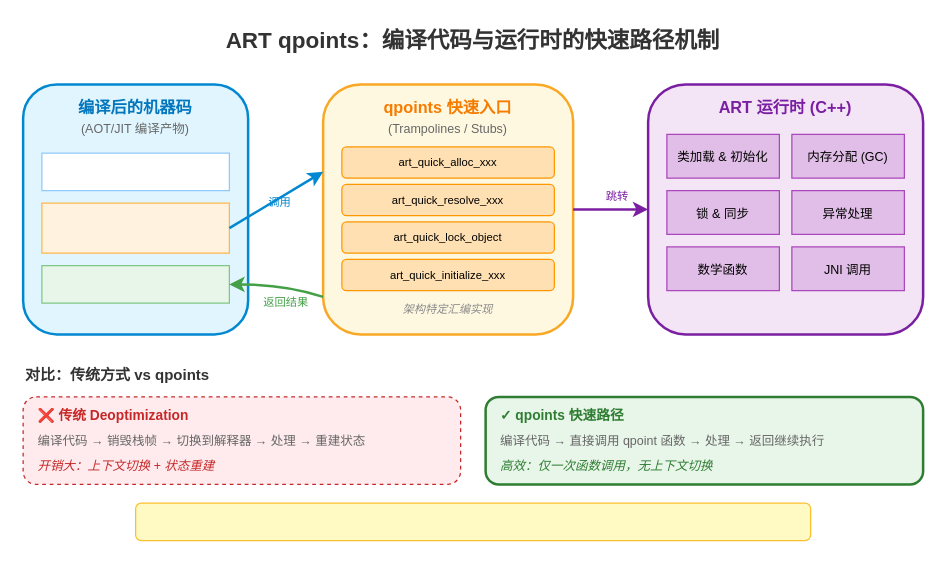
Some shapes in this 945 by 563 pixel diagram are drawn without their labels. The box of each missing label's shape, as (x1, y1, x2, y2) in pixels:
核心价值：qpoints 让编译后的代码能以最低开销（一条跳转指令）调用底层 C++ 运行时能力， 同时允许手写汇编代码进行特定架构优化来替换底层C++实现: (134, 502, 811, 541)
正常代码逻辑执行: (41, 152, 229, 191)
继续执行 ✓: (41, 264, 229, 303)
遇到复杂操作 (类初始化/GC/锁竞争): (41, 202, 229, 253)
